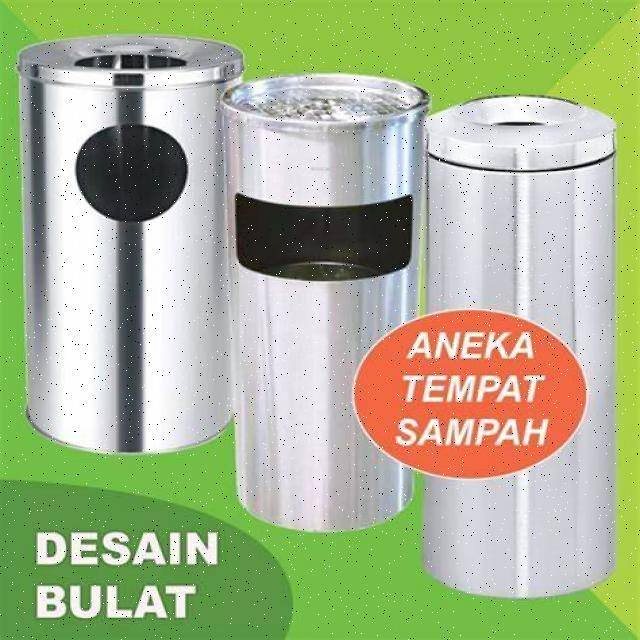garbage container: (15, 23, 243, 479), (432, 94, 629, 599), (226, 75, 434, 528)
